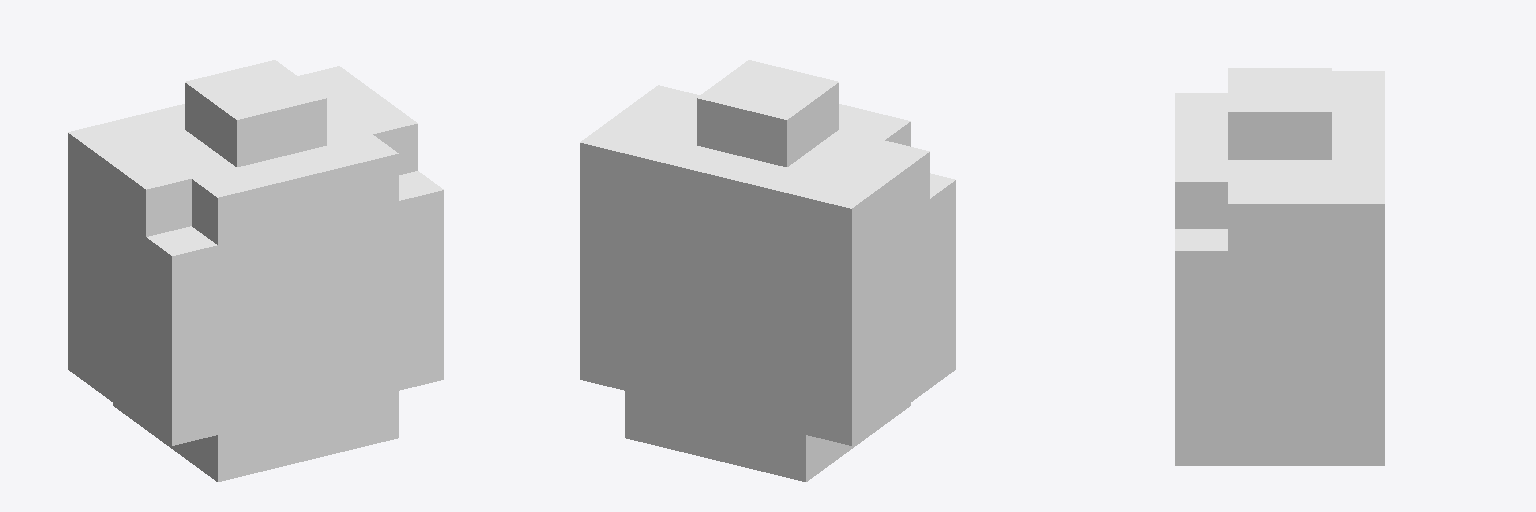
File: puppetneonBody.obj
3 views of the same model, side by side, from view 1: azimuth 30°, elevation 25°; view 2: azimuth 150°, elevation 25°; view 3: azimuth 270°, elevation 25° (orthographic).
Parts seen in each view (by area): view 1: puppetneonBody; view 2: puppetneonBody; view 3: puppetneonBody.
Part boxes in pixels (x1,y1,x2,y2): puppetneonBody: (68,60,443,481); puppetneonBody: (580,60,955,481); puppetneonBody: (1175,68,1384,465).
Bounding box in the file's own units: 6 × 7 × 4.